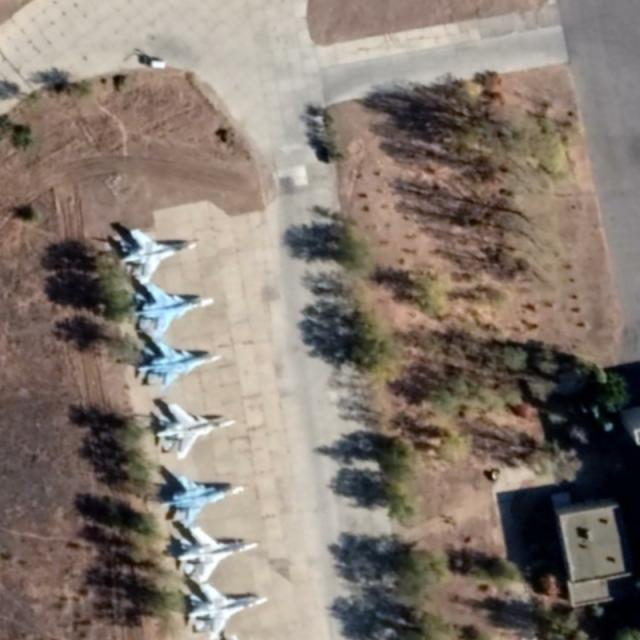fighter jet: (132, 399, 245, 465), (172, 582, 276, 639), (130, 336, 230, 395), (163, 522, 264, 577), (148, 472, 250, 520), (127, 284, 211, 340), (120, 222, 200, 278)
